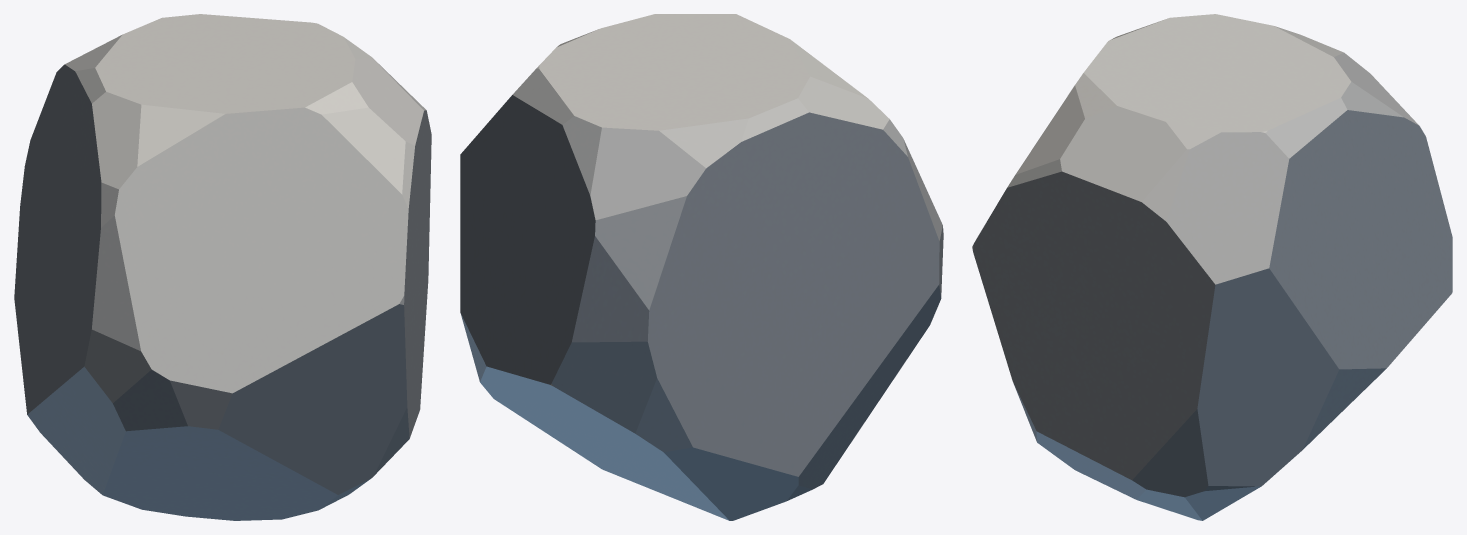
Rendered from rock.obj.
3 views of the same model, side by side, from view 1: azimuth 30°, elevation 25°; view 2: azimuth 150°, elevation 25°; view 3: azimuth 270°, elevation 25° (orthographic). The views are drawn at different scales.
Visible parts, largest first — view 1: rock; view 2: rock; view 3: rock.
Boxes of the visible parts, x1=… form: rock: x1=14, y1=14, x2=431, y2=520; rock: x1=460, y1=14, x2=943, y2=520; rock: x1=972, y1=14, x2=1452, y2=520.
Bounding box in the file's own units: 1.32 × 1.34 × 1.4.
Materials: 1 (1 with a texture image).
